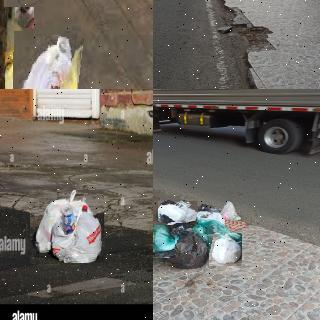Garbage: (30, 189, 104, 264), (9, 29, 80, 89), (0, 6, 33, 89), (166, 228, 211, 271), (209, 234, 242, 266), (194, 218, 236, 243), (158, 200, 198, 223), (153, 225, 175, 257)
